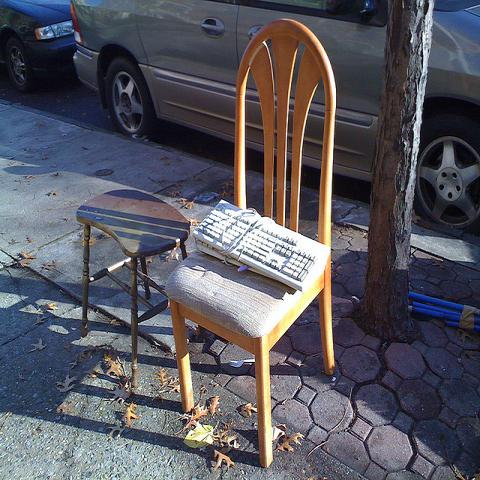car: (70, 0, 478, 226), (0, 1, 76, 92)
